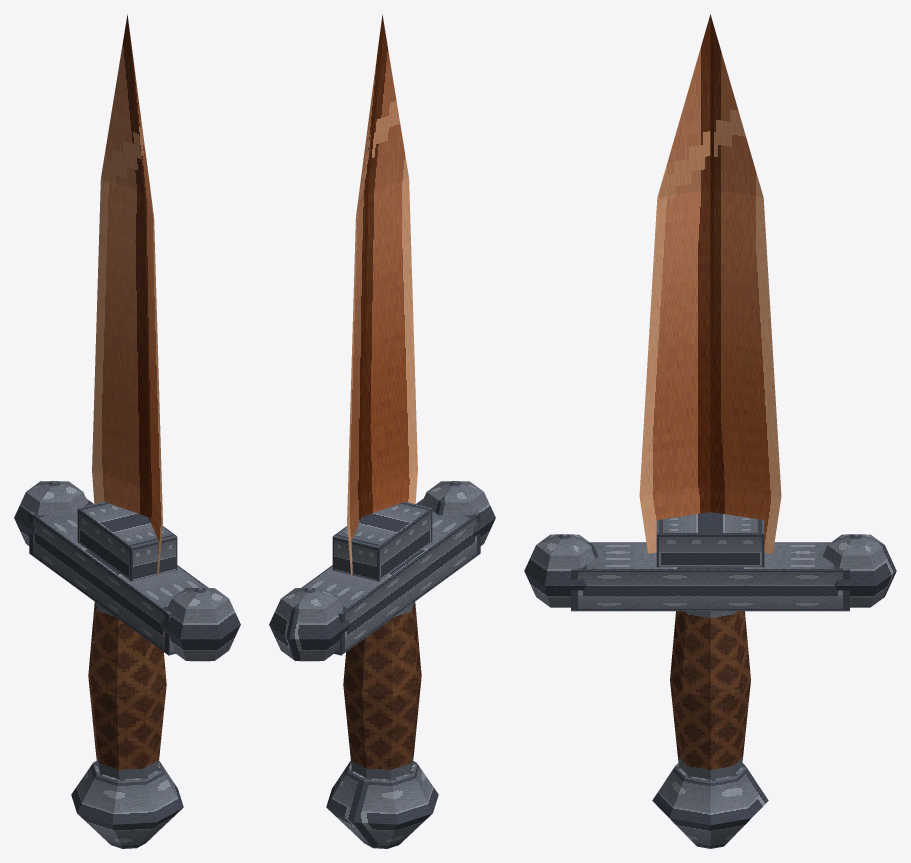
Rendered from adaga_de_cobre.glb.
The picture shows the model from 3 angles, left to right: view 1: azimuth 30°, elevation 25°; view 2: azimuth 150°, elevation 25°; view 3: azimuth 270°, elevation 25°; orthographic projection.
Parts seen in each view (by area): view 1: adaga_de_cobre; view 2: adaga_de_cobre; view 3: adaga_de_cobre.
Boxes of the visible parts, <box> form: adaga_de_cobre: <box>14,14,240,848</box>; adaga_de_cobre: <box>269,14,495,848</box>; adaga_de_cobre: <box>524,14,896,848</box>.
Size of the model in its own units: 0.092 by 0.72 by 0.294.
Materials: 1 (1 with a texture image).
